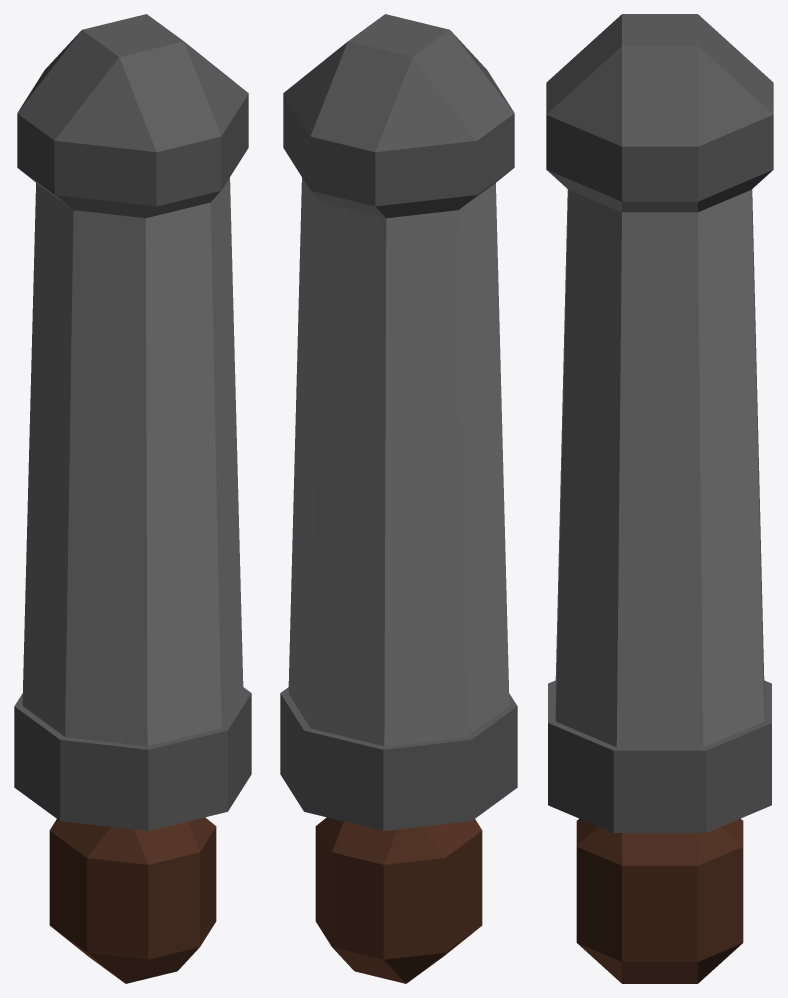
File: becchino_braccio.glb
3 renders of one model, left to right at view 1: azimuth 30°, elevation 25°; view 2: azimuth 150°, elevation 25°; view 3: azimuth 270°, elevation 25°, orthographic.
Parts seen in each view (by area): view 1: becchino_braccio2; view 2: becchino_braccio2; view 3: becchino_braccio2.
Part boxes in pixels (x1,y1,x2,y2): becchino_braccio2: (14, 14, 251, 983); becchino_braccio2: (280, 14, 517, 983); becchino_braccio2: (546, 14, 773, 983).
Size of the model in its own units: 0.15 by 0.685 by 0.15.
